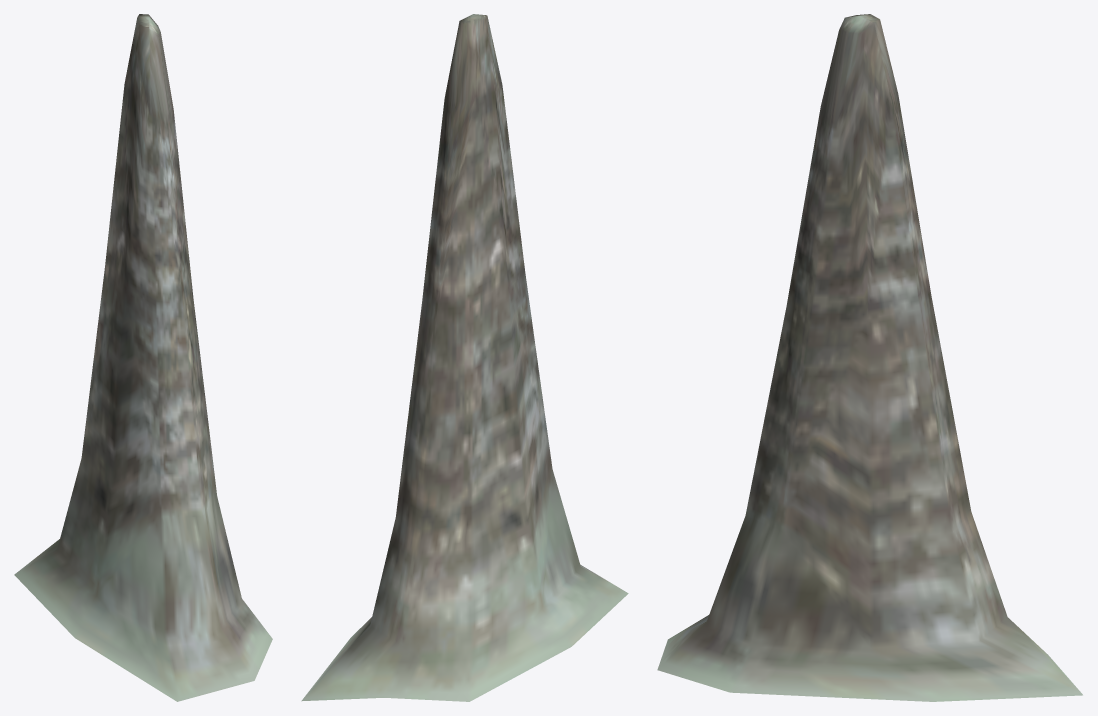
File: TROLLHOLE02_PS-MAINSTALAG04.fbx
3 renders of one model, left to right at view 1: azimuth 30°, elevation 25°; view 2: azimuth 150°, elevation 25°; view 3: azimuth 270°, elevation 25°, orthographic. The views are drawn at different scales.
Parts seen in each view (by area): view 1: TROLLHOLE02_PS-MAINSTALAG04; view 2: TROLLHOLE02_PS-MAINSTALAG04; view 3: TROLLHOLE02_PS-MAINSTALAG04.
Part boxes in pixels (x1=…): TROLLHOLE02_PS-MAINSTALAG04: x1=14, y1=14, x2=272, y2=701; TROLLHOLE02_PS-MAINSTALAG04: x1=301, y1=14, x2=628, y2=701; TROLLHOLE02_PS-MAINSTALAG04: x1=657, y1=14, x2=1082, y2=701.
Size of the model in its own units: 12612 by 43471 by 25637.
1 material, 1 textured.
